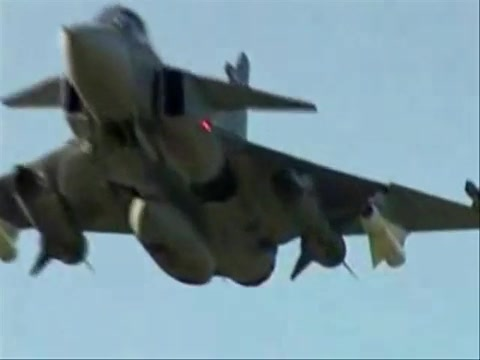aeroplane: (1, 4, 480, 287)
